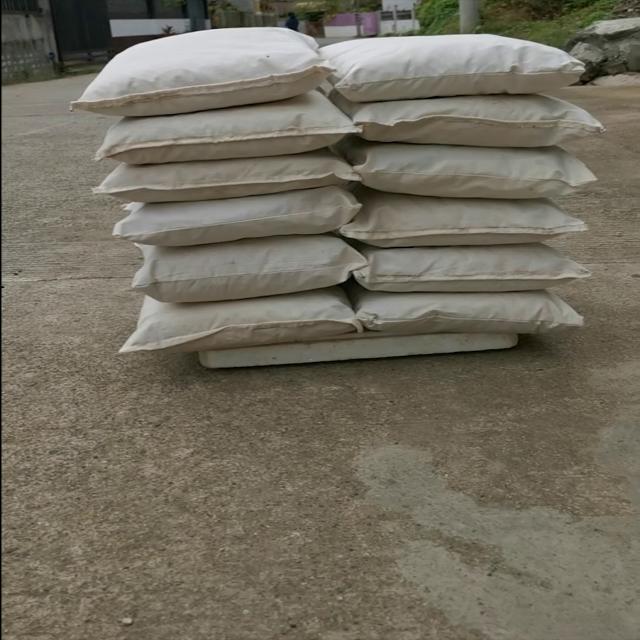Sack: (75, 17, 329, 124), (321, 34, 585, 112), (354, 79, 608, 155), (119, 287, 369, 362), (108, 180, 365, 252), (91, 99, 359, 165), (124, 232, 363, 304), (341, 190, 587, 254), (93, 147, 359, 205), (354, 142, 596, 200), (359, 286, 585, 348), (352, 247, 596, 303)
